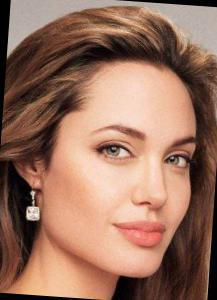Sober: (52, 67, 195, 278)
